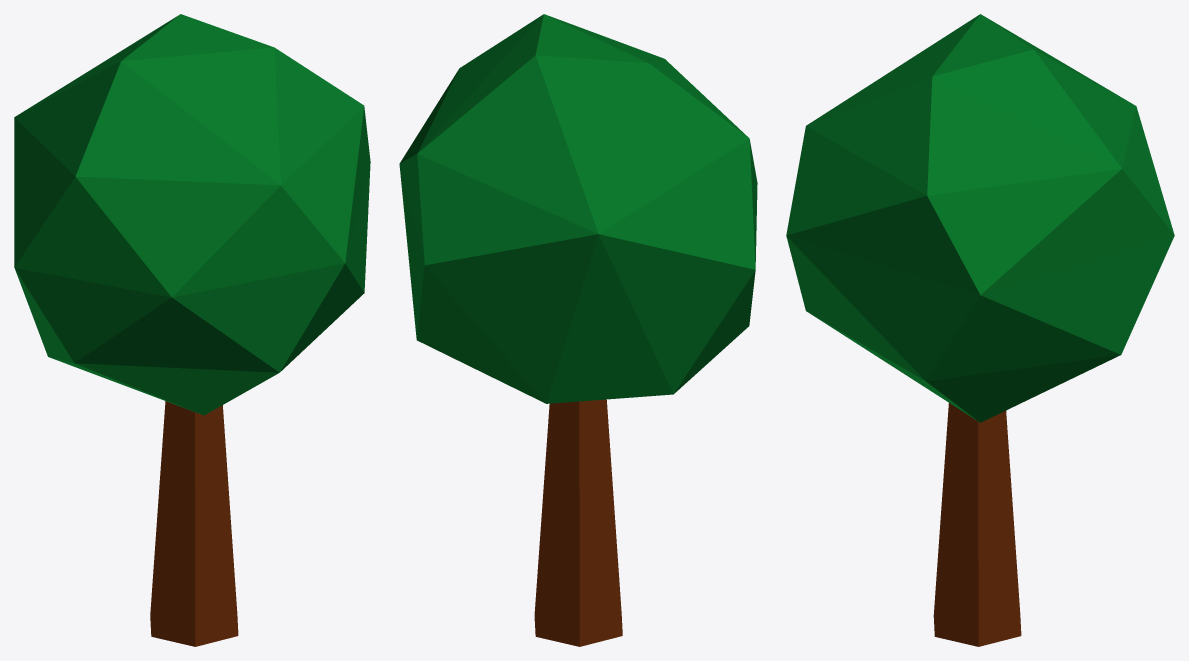
File: tree.fbx
3 views of the same model, side by side, from view 1: azimuth 30°, elevation 25°; view 2: azimuth 150°, elevation 25°; view 3: azimuth 270°, elevation 25° (orthographic).
Parts seen in each view (by area): view 1: Cylinder.001; view 2: Cylinder.001; view 3: Cylinder.001.
Boxes of the visible parts, bbox=[...] form: Cylinder.001: bbox=[14, 14, 370, 646]; Cylinder.001: bbox=[399, 14, 757, 646]; Cylinder.001: bbox=[786, 14, 1174, 646].
Bounding box in the file's own units: 235 × 370 × 223.
